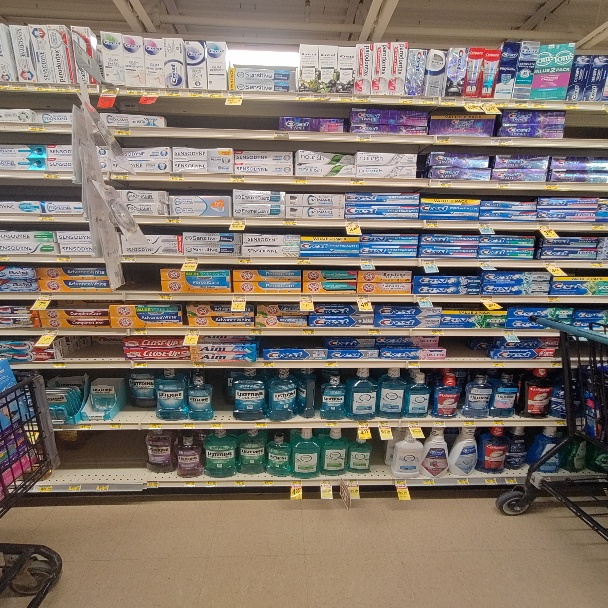All PRICE TAGS: (10, 83, 29, 91), (492, 138, 513, 145), (28, 123, 44, 132), (37, 214, 54, 222), (43, 171, 60, 179), (236, 256, 252, 264), (129, 327, 147, 334), (33, 485, 51, 492), (33, 84, 51, 91), (249, 327, 264, 335), (56, 254, 71, 262), (113, 172, 128, 180), (115, 128, 130, 136), (514, 100, 529, 108), (479, 99, 494, 107), (462, 98, 477, 106), (338, 95, 353, 103), (54, 84, 71, 91), (132, 361, 148, 368), (431, 328, 445, 336), (39, 291, 53, 299), (547, 295, 561, 303), (425, 220, 439, 228), (544, 182, 558, 190), (438, 180, 452, 188), (494, 99, 508, 107), (532, 100, 546, 108), (357, 134, 373, 141), (230, 175, 246, 182), (301, 328, 316, 335), (186, 327, 201, 334), (299, 294, 314, 301), (421, 258, 436, 265), (293, 177, 308, 184), (127, 88, 142, 95), (144, 89, 159, 96), (189, 90, 204, 97), (421, 97, 436, 104), (169, 174, 184, 181), (350, 178, 365, 185), (359, 258, 374, 265), (437, 136, 450, 144), (442, 98, 455, 106), (262, 479, 276, 486), (378, 419, 392, 426), (356, 420, 370, 427), (356, 294, 370, 301), (210, 422, 224, 429), (491, 361, 505, 368), (192, 361, 206, 368), (232, 218, 246, 225), (283, 218, 297, 225), (537, 222, 551, 229), (477, 221, 491, 228), (496, 181, 510, 188), (565, 102, 579, 109), (296, 94, 310, 101), (168, 217, 182, 224), (122, 255, 136, 262), (296, 257, 310, 264), (96, 484, 108, 492), (68, 484, 80, 492), (313, 95, 329, 101), (101, 87, 117, 93), (164, 90, 180, 96), (394, 479, 407, 486), (484, 477, 497, 484), (504, 477, 517, 484), (554, 419, 567, 426), (254, 422, 267, 429), (78, 423, 91, 430), (53, 361, 66, 368), (481, 295, 494, 302), (543, 260, 556, 267), (186, 256, 199, 263), (325, 420, 340, 426), (355, 96, 370, 102), (399, 97, 414, 103), (345, 220, 360, 226), (232, 294, 247, 300), (320, 479, 334, 485), (204, 480, 218, 486), (367, 329, 381, 335), (260, 362, 274, 368), (290, 480, 302, 487), (457, 478, 469, 485), (109, 423, 121, 430), (550, 361, 562, 368), (417, 295, 429, 302), (478, 259, 490, 266), (209, 91, 223, 97), (157, 294, 171, 300), (346, 479, 359, 485), (150, 423, 163, 429), (233, 480, 246, 486), (422, 479, 435, 485), (492, 420, 505, 426), (463, 420, 476, 426), (433, 420, 446, 426), (179, 422, 194, 427), (324, 362, 339, 367), (228, 93, 243, 98), (146, 481, 158, 487), (408, 420, 420, 426), (408, 361, 420, 367), (185, 481, 196, 487), (503, 329, 514, 335), (0, 254, 9, 261), (275, 132, 290, 136), (0, 83, 8, 90)
